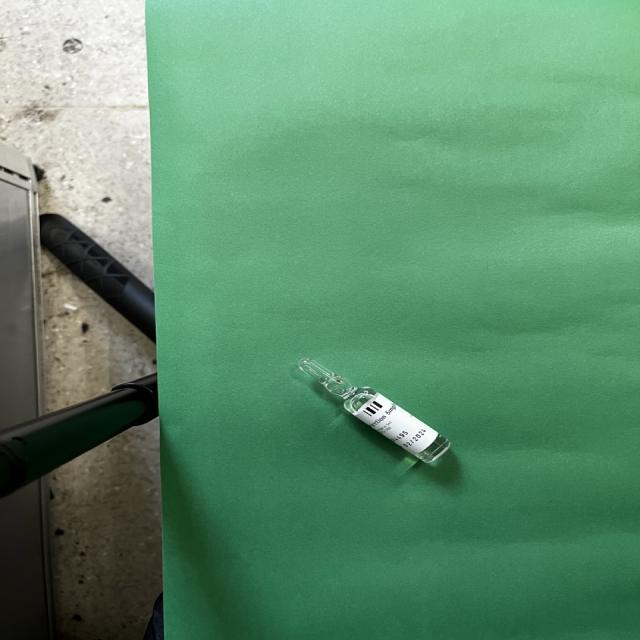Ampoules: (299, 358, 449, 466)
